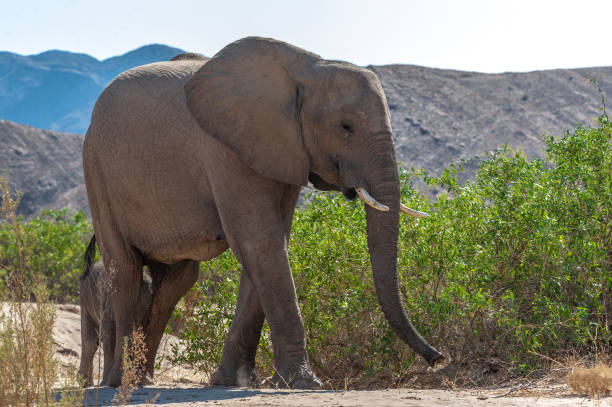africanelephant: (263, 48, 420, 228)
